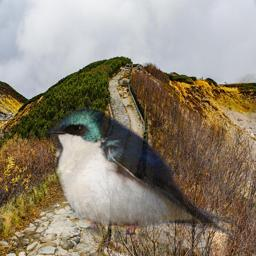Swallow: (45, 106, 234, 235)
